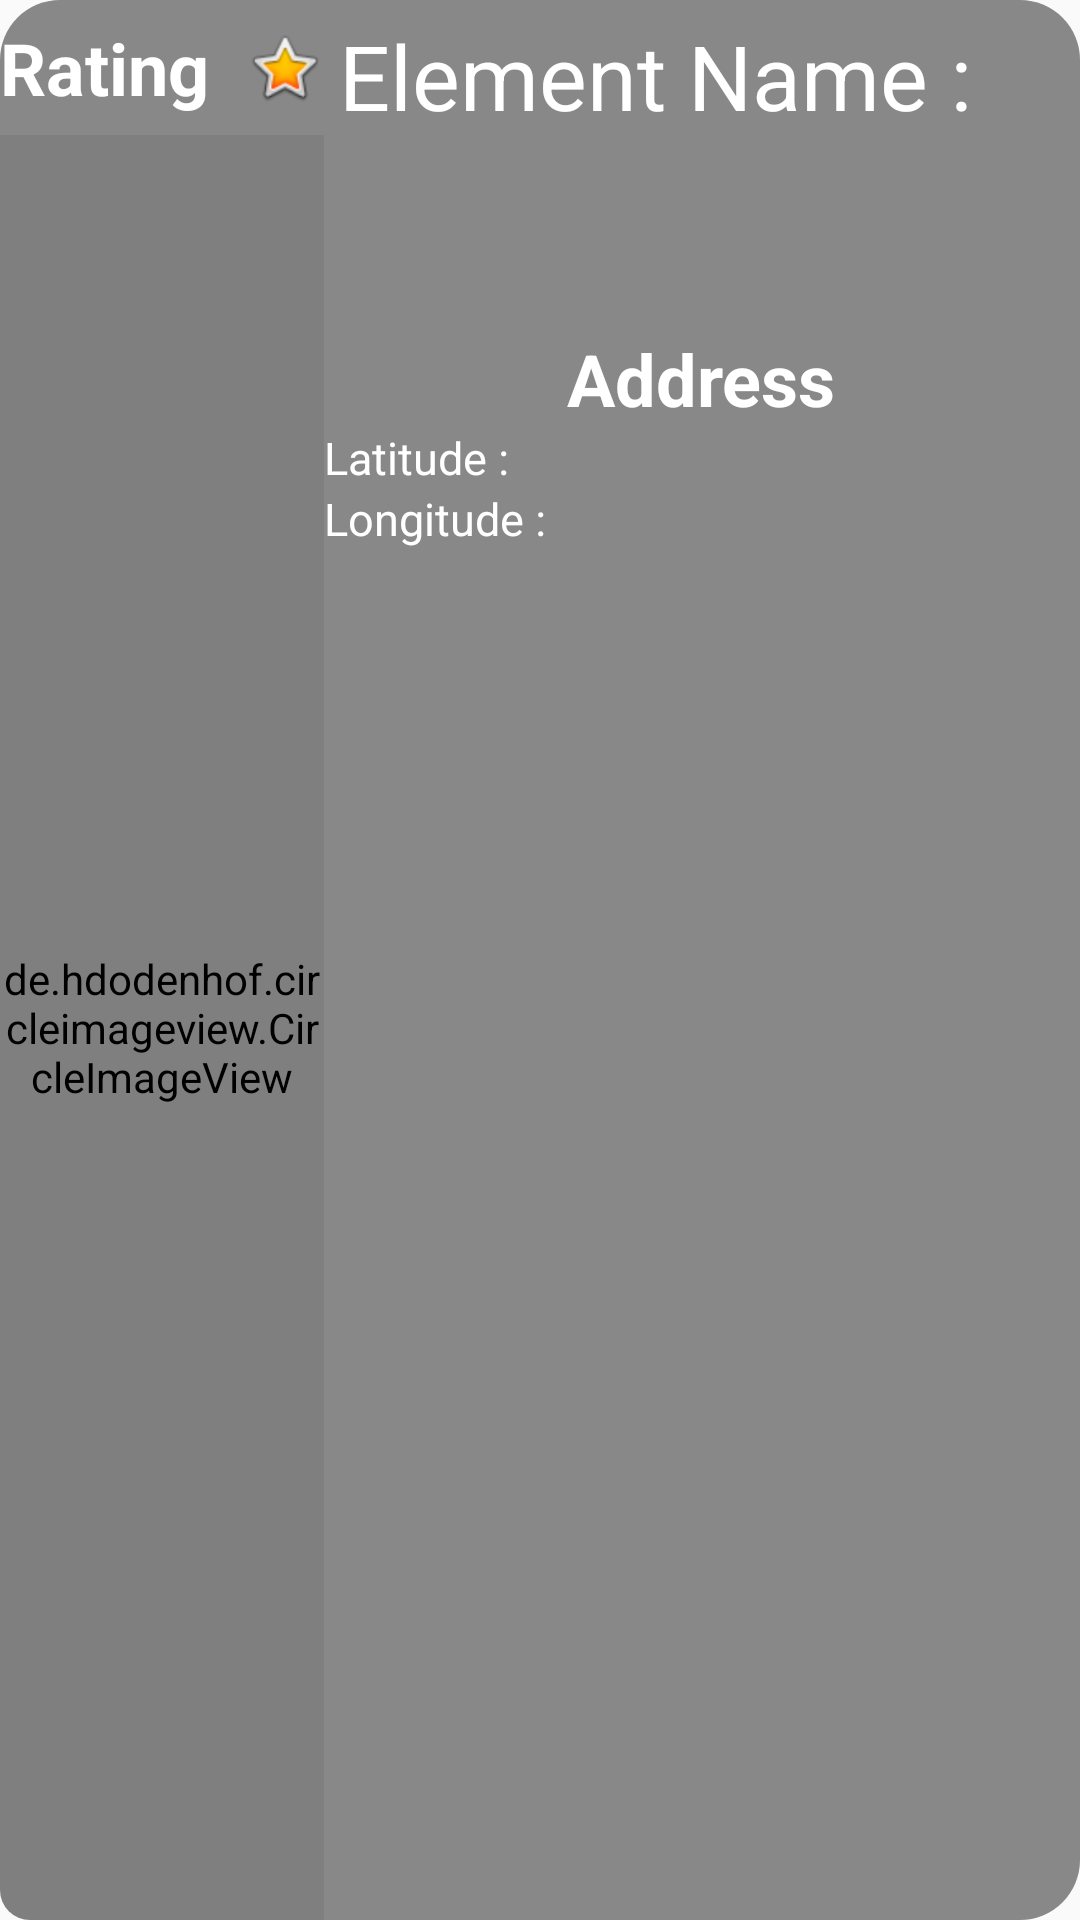

Screen size 1080w x 1920h. Icon name, then its box in pixels as bbox=(x1, y1, x2, y2):
star on: bbox=(253, 38, 318, 100)
